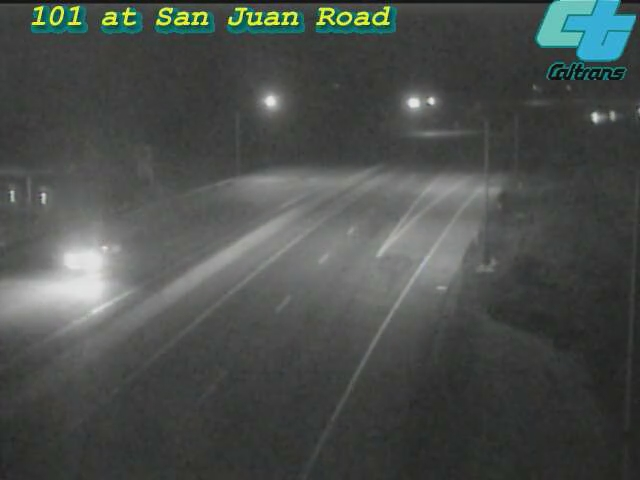vehicle: (37, 222, 117, 302), (589, 90, 639, 140), (571, 93, 621, 143)
